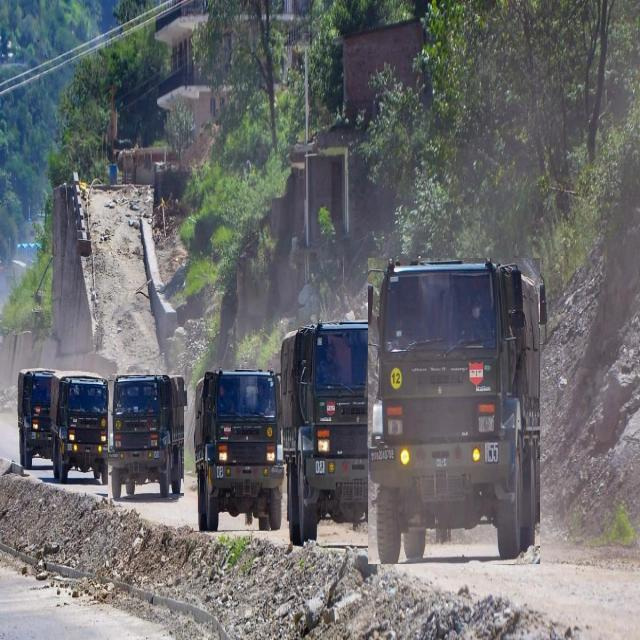truck: (368, 258, 540, 564), (281, 320, 370, 544), (195, 369, 284, 531), (108, 375, 184, 498), (50, 371, 110, 484), (18, 369, 52, 469)
